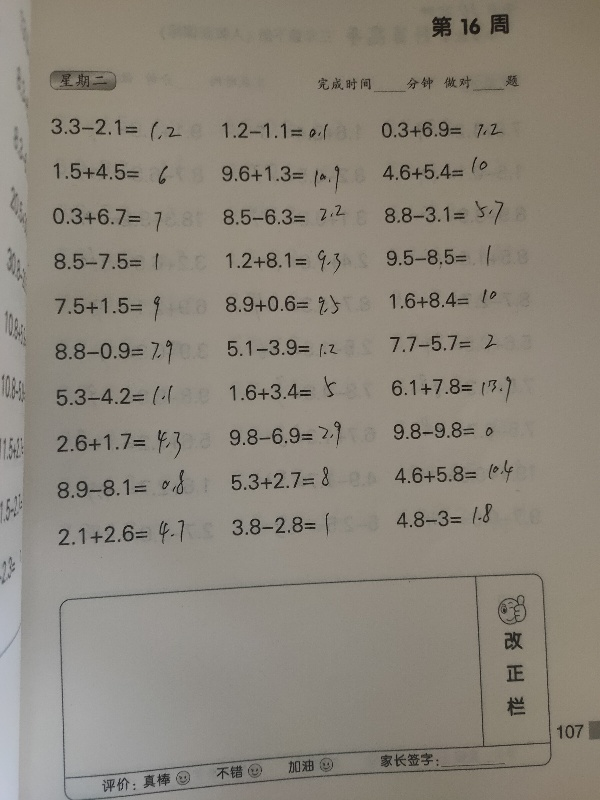equation: (48, 424, 195, 464), (52, 332, 187, 371), (216, 156, 343, 197), (220, 245, 353, 283), (49, 468, 193, 503), (45, 196, 169, 236), (220, 289, 356, 325), (376, 196, 513, 231), (373, 155, 515, 188), (48, 288, 175, 324), (384, 283, 512, 317), (379, 241, 503, 275), (226, 418, 345, 453), (219, 332, 349, 364), (388, 373, 515, 405), (54, 518, 188, 548), (225, 372, 345, 405), (53, 385, 177, 416), (217, 199, 349, 228), (392, 457, 517, 487), (47, 115, 185, 142), (375, 117, 511, 141), (48, 247, 171, 273), (50, 159, 171, 185), (228, 509, 332, 539), (227, 465, 333, 492), (392, 503, 497, 530), (386, 330, 500, 354), (218, 119, 331, 142), (389, 418, 496, 442)
